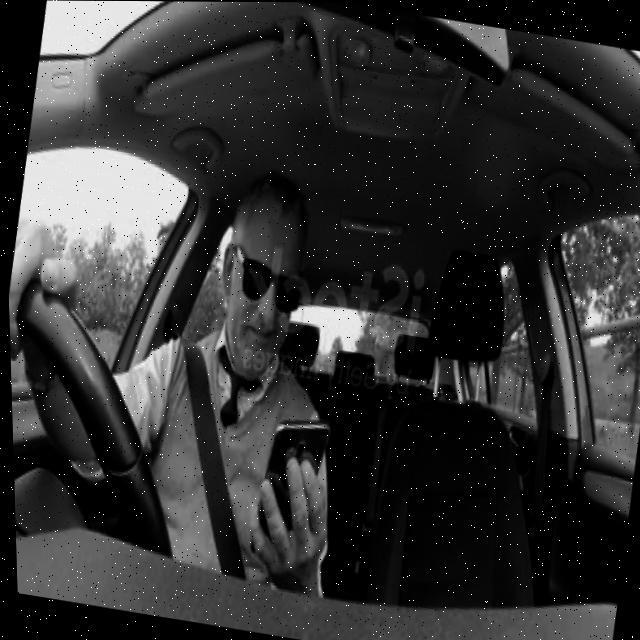PhoneCall: (243, 412, 335, 566)
